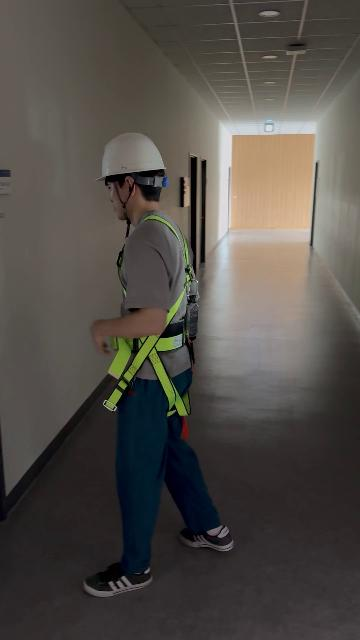helmet_worn: (94, 131, 168, 182)
shoe_not_worn: (83, 562, 153, 596), (178, 524, 234, 551)
vest_worn: (103, 218, 198, 414)
